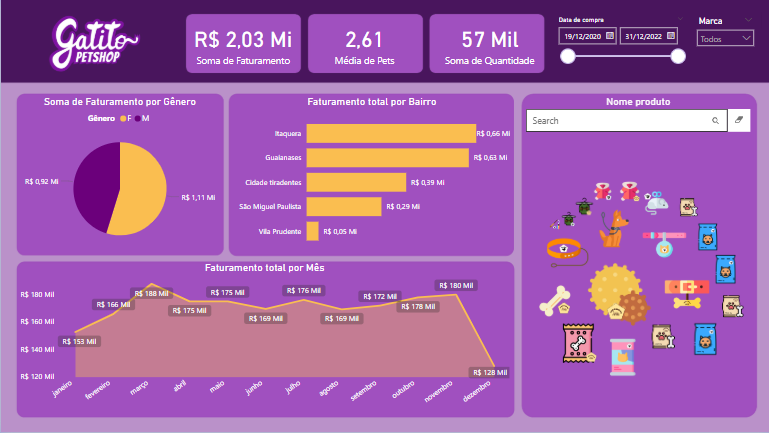

The dashboard page shown, as its layout file describes it:
{"tool":"powerbi","page":{"name":"Página 1","canvas":[1280,720],"ordinal":0},"visuals":[{"type":"card","fields":{"Values":["Avg(Clientes.Pets)"]},"box":[511.7,21.7,188.3,101.7],"z":0},{"type":"card","fields":{"Values":["Sum(Vendas.Faturamento)"]},"box":[310,21.7,186.7,101.7],"z":1000},{"type":"card","fields":{"Values":["Sum(Vendas.Quantidade)"]},"box":[711.7,21.7,205,101.7],"z":2000},{"type":"pieChart","fields":{"Category":["Clientes.Gênero"],"Y":["Sum(Vendas.Faturamento)"]},"box":[26.7,158.3,343.3,265],"z":3000},{"type":"clusteredBarChart","fields":{"Category":["Clientes.Bairro"],"Y":["Vendas.Faturamento total"]},"box":[383.3,158.3,470,265],"z":4000},{"type":"areaChart","fields":{"Category":["Vendas.Data de compra.Variation.Hierarquia de datas.Ano","Vendas.Data de compra.Variation.Hierarquia de datas.Trimestre","Vendas.Data de compra.Variation.Hierarquia de datas.Mês","Vendas.Data de compra.Variation.Hierarquia de datas.Dia"],"Y":["Vendas.Faturamento total"]},"box":[27.1,435.7,825.7,258.6],"z":5000},{"type":"ImageGrid_FC5183B9_926C_45E0_B5F7_0CE9EAF1DA9B","fields":{"ImageURL":["Produtos.Url img"]},"box":[870,235.7,395.7,458.6],"z":6000},{"type":"textFilter25A4896A83E0487089E2B90C9AE57C8A","fields":{"field":["Produtos.Nome produto"]},"box":[870,158.6,384.3,77.1],"z":7000},{"type":"slicer","fields":{"Values":["Produtos.Marca"]},"box":[1150,21.7,115,101.7],"z":8000},{"type":"slicer","fields":{"Values":["Vendas.Data de compra"]},"box":[916.7,21.7,233.3,101.7],"z":9000}]}

Visuals, with their boxes in screenshot pixels (x1, y1, x2, y2), scaled from the page's 1280x720 canvas onto the 769x433 screenshot:
card - Avg(Clientes.Pets): 307:13:421:74
card - Sum(Vendas.Faturamento): 186:13:298:74
card - Sum(Vendas.Quantidade): 428:13:551:74
pieChart - Clientes.Gênero x Sum(Vendas.Faturamento): 16:95:222:255
clusteredBarChart - Clientes.Bairro x Vendas.Faturamento total: 230:95:513:255
areaChart - Vendas.Data de compra.Variation.Hierarquia de datas.Ano x Vendas.Data de compra.Variation.Hierarquia de datas.Trimestre: 16:262:512:418
ImageGrid_FC5183B9_926C_45E0_B5F7_0CE9EAF1DA9B - Produtos.Url img: 523:142:760:418
textFilter25A4896A83E0487089E2B90C9AE57C8A - Produtos.Nome produto: 523:95:754:142
slicer - Produtos.Marca: 691:13:760:74
slicer - Vendas.Data de compra: 551:13:691:74
